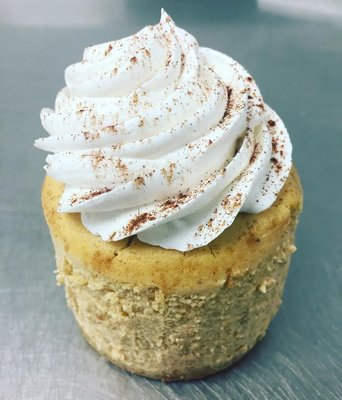soup: (34, 10, 304, 388)
